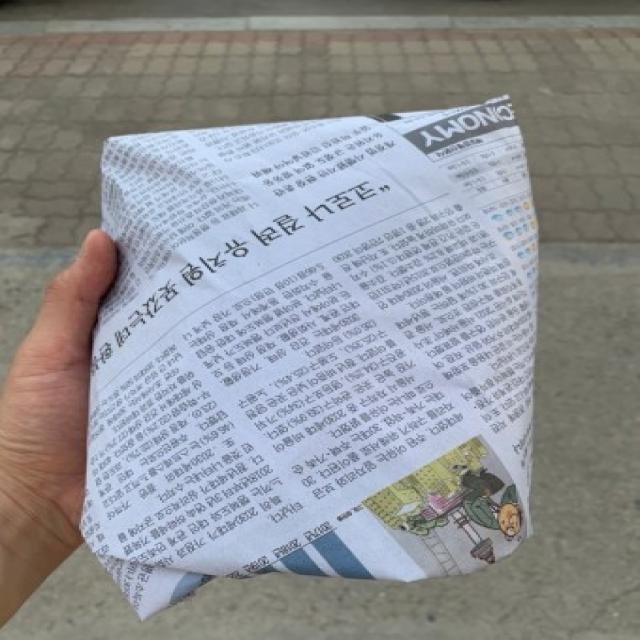Newspaper: (76, 85, 552, 621)
